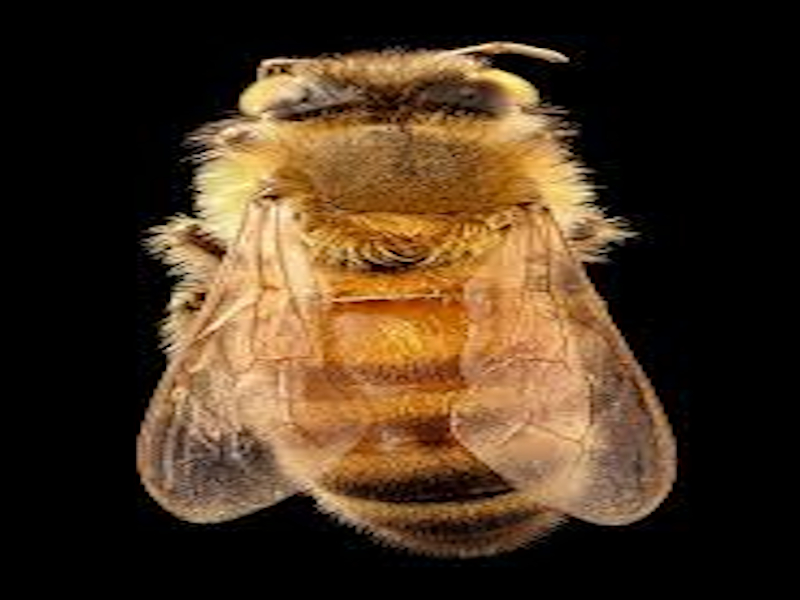abeja: (107, 21, 664, 567)
